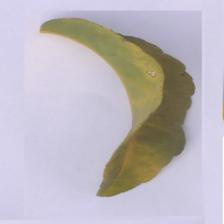black spot: (134, 39, 196, 143)
